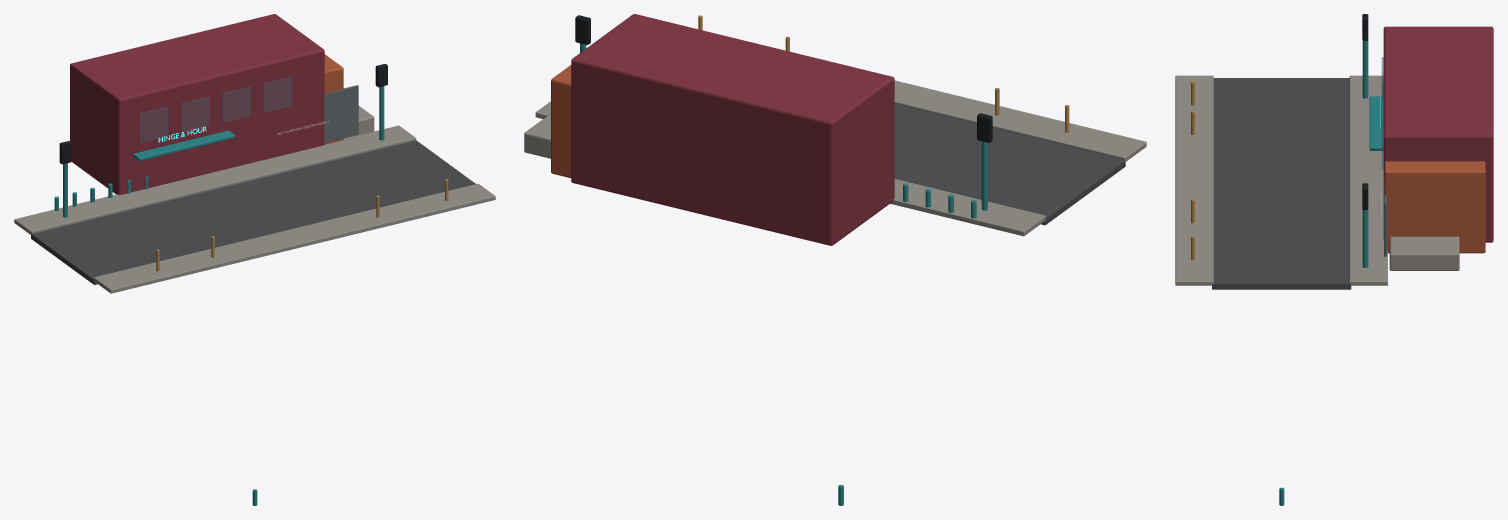
File: cell_street_extension.glb
3 renders of one model, left to right at view 1: azimuth 30°, elevation 25°; view 2: azimuth 150°, elevation 25°; view 3: azimuth 270°, elevation 25°, orthographic. The views are drawn at different scales.
Parts seen in each view (by area): view 1: HingeHour_Main, StreetExtension_Road, StreetExtension_SidewalkSouth, StreetExtension_SidewalkNorth, RollingShutter, HingeHour_Canopy, CornerBay_5, CornerBay_-4, CornerBay_2, CornerBay_-1, HingeHour_Step; view 2: HingeHour_Main, StreetExtension_Road, StreetExtension_SidewalkSouth, StreetExtension_SidewalkNorth, HingeHour_Step, LoadingDock; view 3: StreetExtension_Road, HingeHour_Main, HingeHour_Step, StreetExtension_SidewalkSouth, StreetExtension_SidewalkNorth, LoadingDock, HingeHour_Canopy, TrafficSignalPost, TrafficSignalPost.001.
Boxes of the visible parts, left/top/right/bottom form: HingeHour_Main: left=70, top=14, right=324, bottom=194; StreetExtension_Road: left=31, top=140, right=475, bottom=284; StreetExtension_SidewalkSouth: left=93, top=183, right=495, bottom=293; StreetExtension_SidewalkNorth: left=14, top=125, right=416, bottom=234; RollingShutter: left=324, top=85, right=358, bottom=142; HingeHour_Canopy: left=133, top=130, right=235, bottom=161; CornerBay_5: left=263, top=77, right=292, bottom=112; CornerBay_-4: left=139, top=107, right=168, bottom=142; CornerBay_2: left=222, top=87, right=251, bottom=122; CornerBay_-1: left=180, top=97, right=209, bottom=132; HingeHour_Step: left=324, top=54, right=343, bottom=144; HingeHour_Main: left=571, top=14, right=894, bottom=245; StreetExtension_Road: left=894, top=104, right=1125, bottom=225; StreetExtension_SidewalkSouth: left=894, top=80, right=1146, bottom=161; StreetExtension_SidewalkNorth: left=535, top=101, right=1045, bottom=236; HingeHour_Step: left=551, top=65, right=571, bottom=178; LoadingDock: left=524, top=113, right=550, bottom=158; StreetExtension_Road: left=1212, top=78, right=1351, bottom=289; HingeHour_Main: left=1383, top=26, right=1493, bottom=242; HingeHour_Step: left=1384, top=161, right=1485, bottom=253; StreetExtension_SidewalkSouth: left=1175, top=75, right=1213, bottom=285; StreetExtension_SidewalkNorth: left=1349, top=75, right=1387, bottom=285; LoadingDock: left=1389, top=236, right=1459, bottom=270; HingeHour_Canopy: left=1369, top=96, right=1383, bottom=150; TrafficSignalPost: left=1362, top=40, right=1368, bottom=98; TrafficSignalPost.001: left=1362, top=210, right=1368, bottom=267.
Size of what is drawn, in the model's own units: 28 by 27.33 by 18.25.
